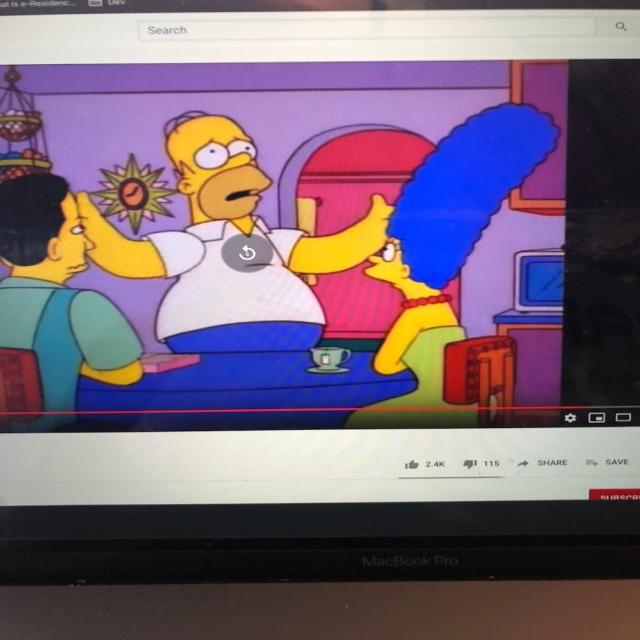Homer Simpson: (161, 106, 278, 233)
Marge Simpson: (358, 98, 568, 312)
